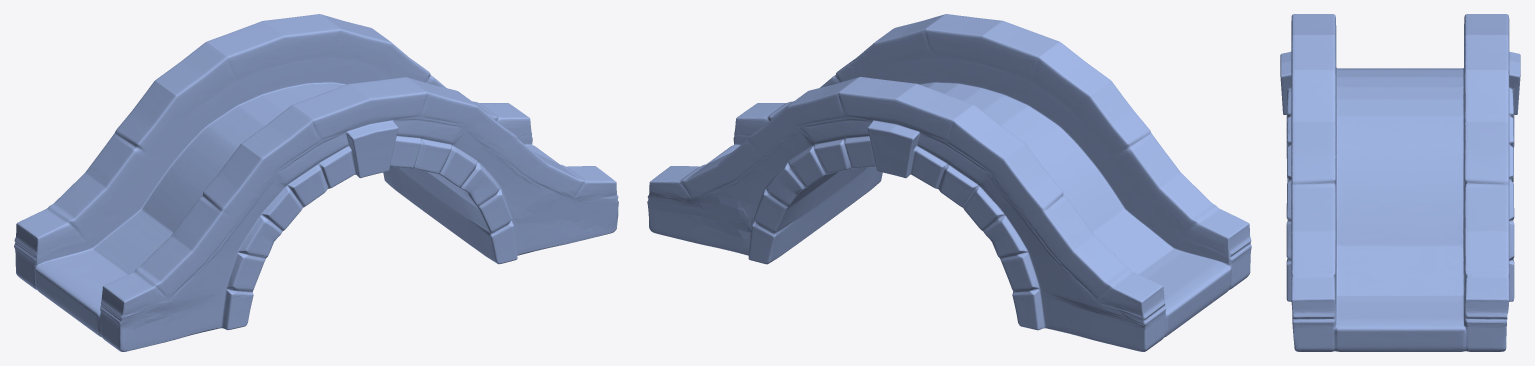
The picture shows the model from 3 angles, left to right: view 1: azimuth 30°, elevation 25°; view 2: azimuth 150°, elevation 25°; view 3: azimuth 270°, elevation 25°; orthographic projection.
Parts seen in each view (by area): view 1: node_0; view 2: node_0; view 3: node_0.
Part boxes in pixels (x1,y1,x2,y2): node_0: [14, 14, 618, 351]; node_0: [647, 14, 1251, 351]; node_0: [1280, 14, 1520, 351].
Bounding box in the file's own units: 1.08 × 0.4009 × 0.4445.
